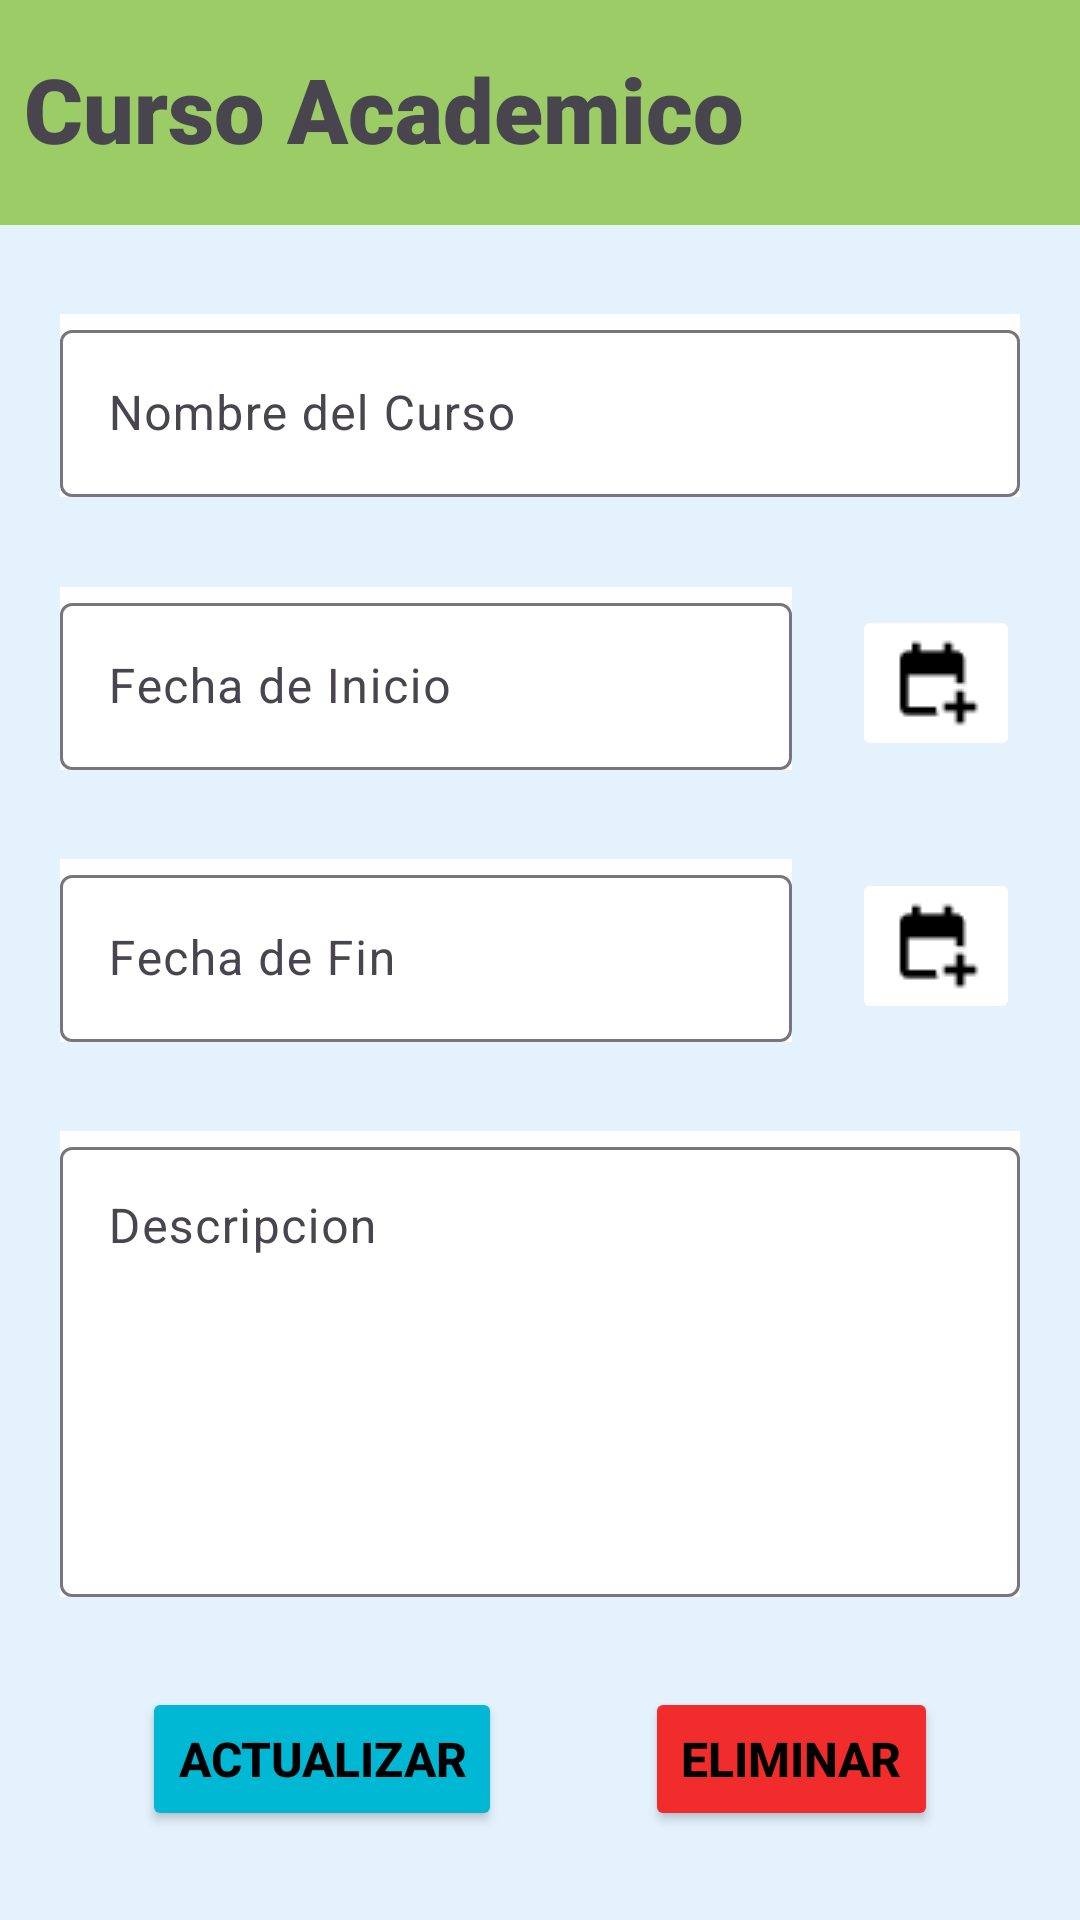

Icon click points for this 1080×1920 phone screenshot, format (x,y):
calendar: (936,683), (936,946)
